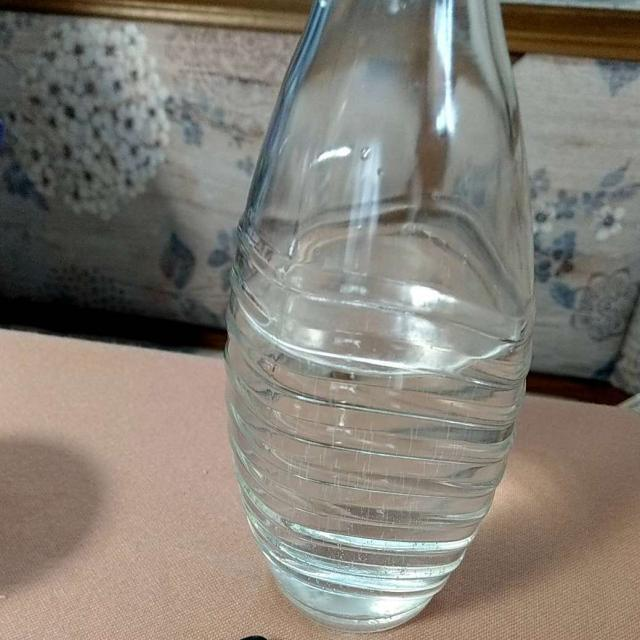water: (239, 211, 521, 614)
